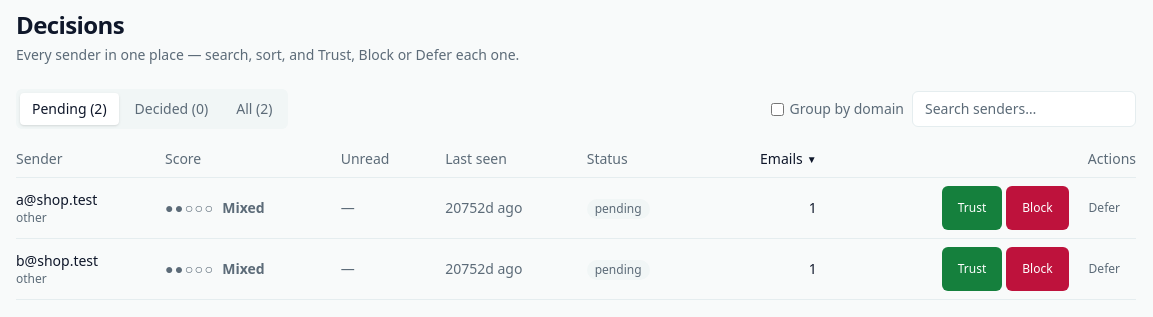
Test case: Dashboard — group by domain › swaps senders for domain aggregates when the toggle is on
The image size is (1153, 317).
Expected: the text "a@shop.test" is shown, [16,190,97,209]
What coordinates should you click on to do the following:
click the checkbox labelled "Group by domain"
I would click on:
 (777, 109)
Its box is [770,102,784,116].
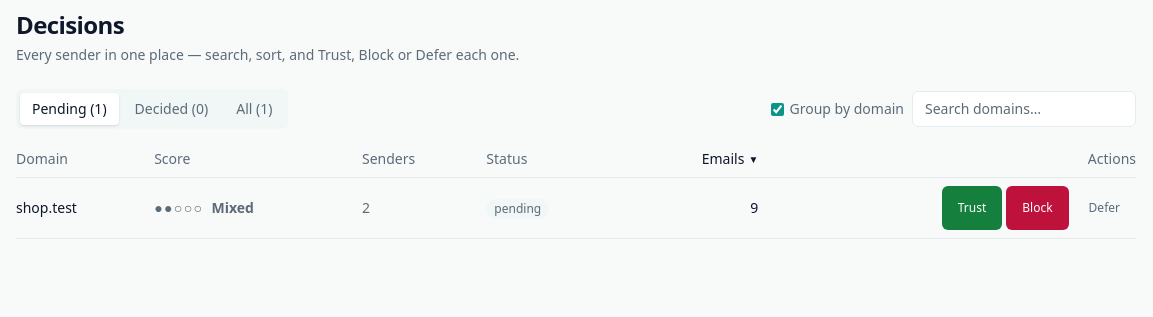
Expected: the text "shop.test" is shown, [16,178,154,238]
Now the text "a@shop.test" is gone
Now the search field labelled "Search domains…" is shown, box [912,91,1136,127]
